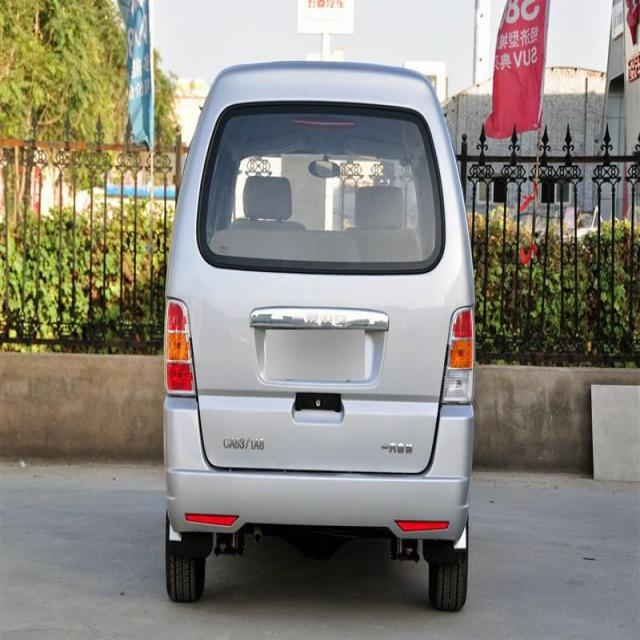back_glass: (196, 100, 446, 274)
back_left_side_light: (164, 294, 198, 398)
back_right_side_light: (440, 304, 477, 406)
rear_bumper: (162, 397, 472, 543)
wheel: (429, 522, 468, 610), (167, 516, 206, 602)
